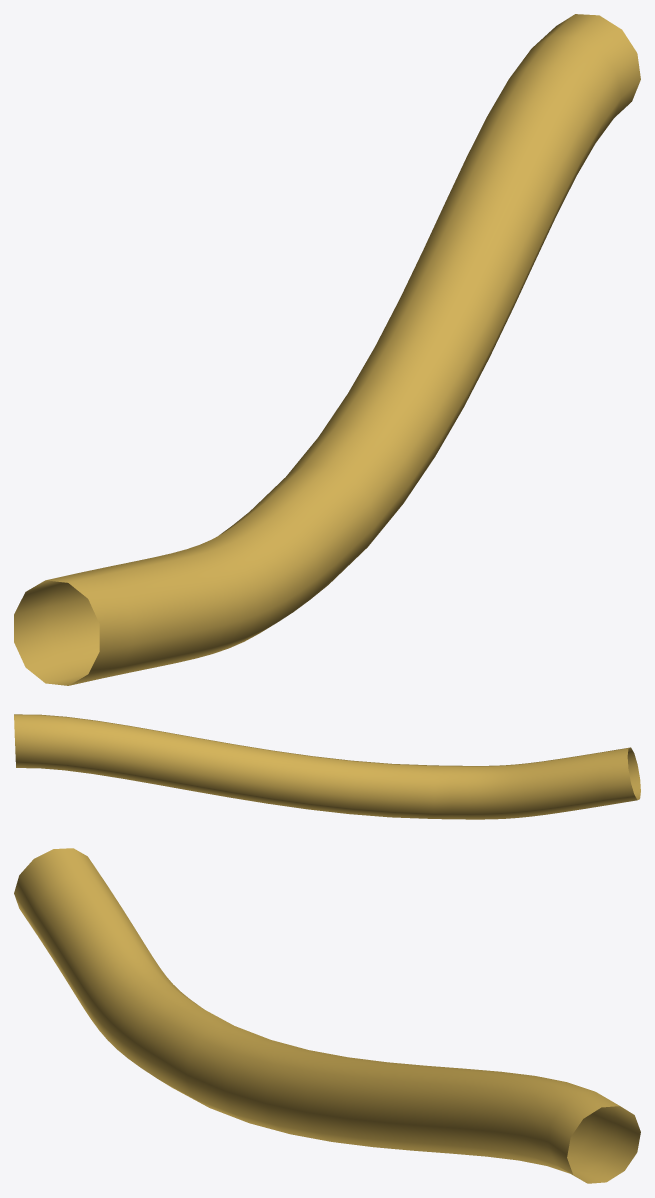
The picture shows the model from 3 angles, top to bottom: view 1: azimuth 30°, elevation 25°; view 2: azimuth 150°, elevation 25°; view 3: azimuth 270°, elevation 25°; orthographic projection. The views are drawn at different scales.
Visible parts, largest first — view 1: 左侧臂丛下干; view 2: 左侧臂丛下干; view 3: 左侧臂丛下干.
Boxes of the visible parts, x1,y1,x2,y2 form: 左侧臂丛下干: [14, 14, 640, 685]; 左侧臂丛下干: [14, 714, 640, 819]; 左侧臂丛下干: [14, 848, 640, 1183].
Bounding box in the file's own units: 0.0438 × 0.0114 × 0.0321.
